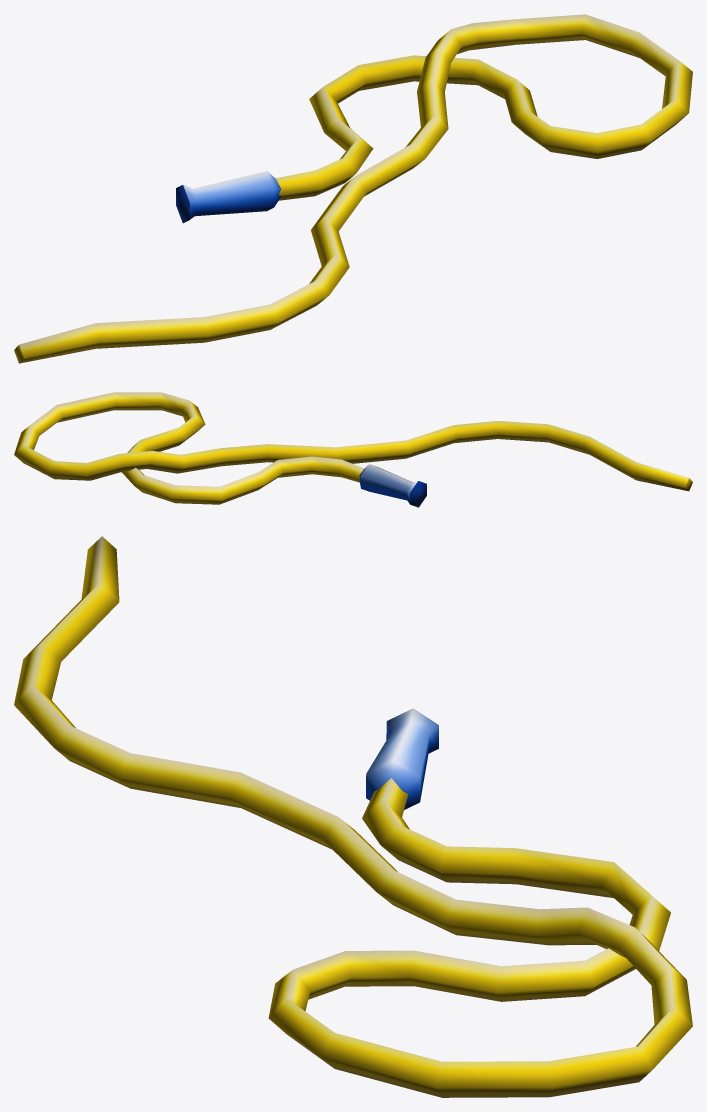
Rendered from Hose_2D.fbx.
3 renders of one model, top to bottom at view 1: azimuth 30°, elevation 25°; view 2: azimuth 150°, elevation 25°; view 3: azimuth 270°, elevation 25°, orthographic. The views are drawn at different scales.
Visible parts, largest first — view 1: Hose_2D; view 2: Hose_2D; view 3: Hose_2D.
Boxes of the visible parts, bbox=[...] form: Hose_2D: bbox=[14, 14, 692, 363]; Hose_2D: bbox=[14, 392, 692, 507]; Hose_2D: bbox=[14, 536, 692, 1097].
Bounding box in the file's own units: 236 × 14.74 × 126.
